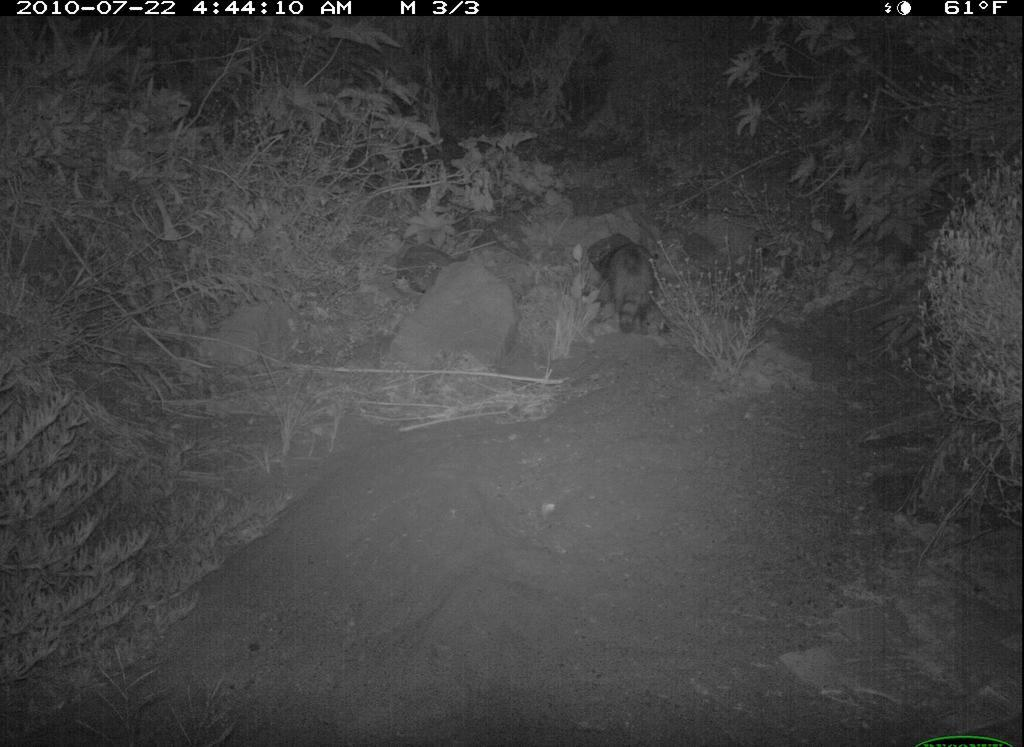raccoon: (597, 228, 667, 347)
